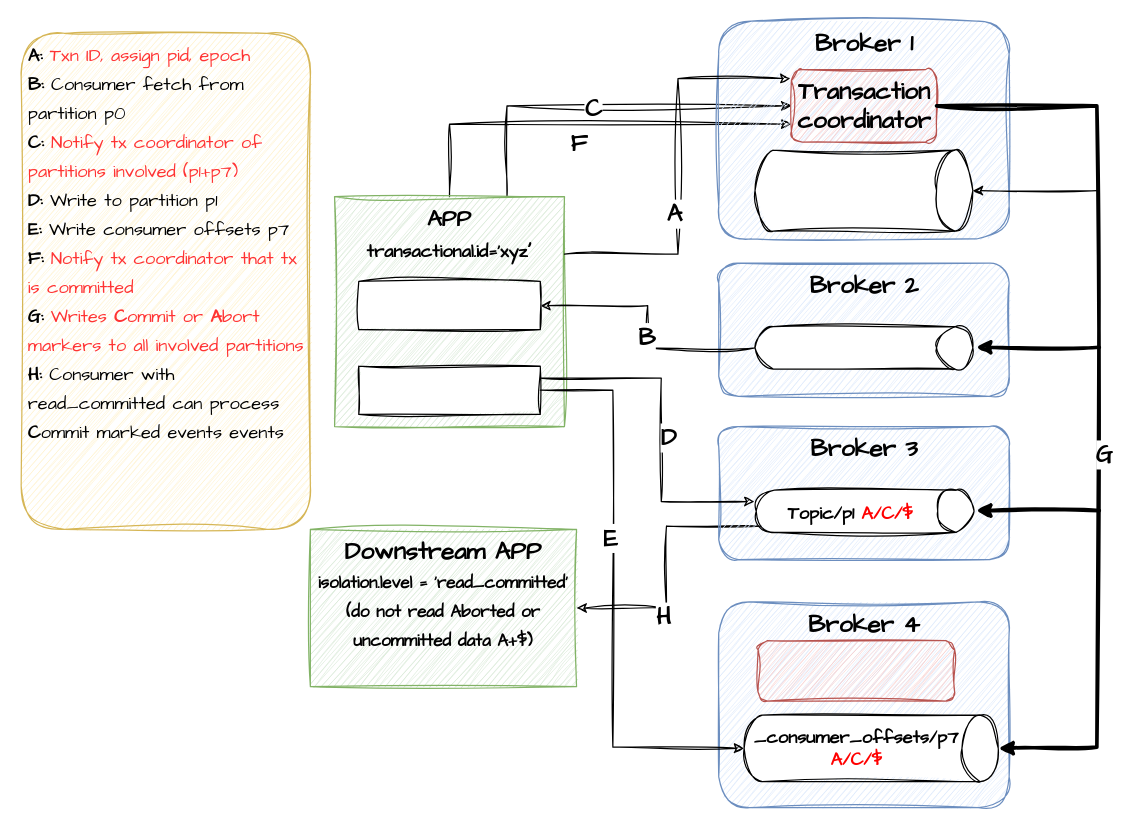
The diagram is 1133 pixels wide and 829 high, and some of its shapes have lost their labels. The centre of each missing label's shape, as x and y in pixels:
"Consumer" belongs at [449,305].
"Consumergroup coordinater" belongs at [856,670].
"Producer" belongs at [449,389].
"Topic / p0" belongs at [863,347].
"Trans_log_topic xyz:pid:p1+p7 A/C/$" belongs at [863,190].
